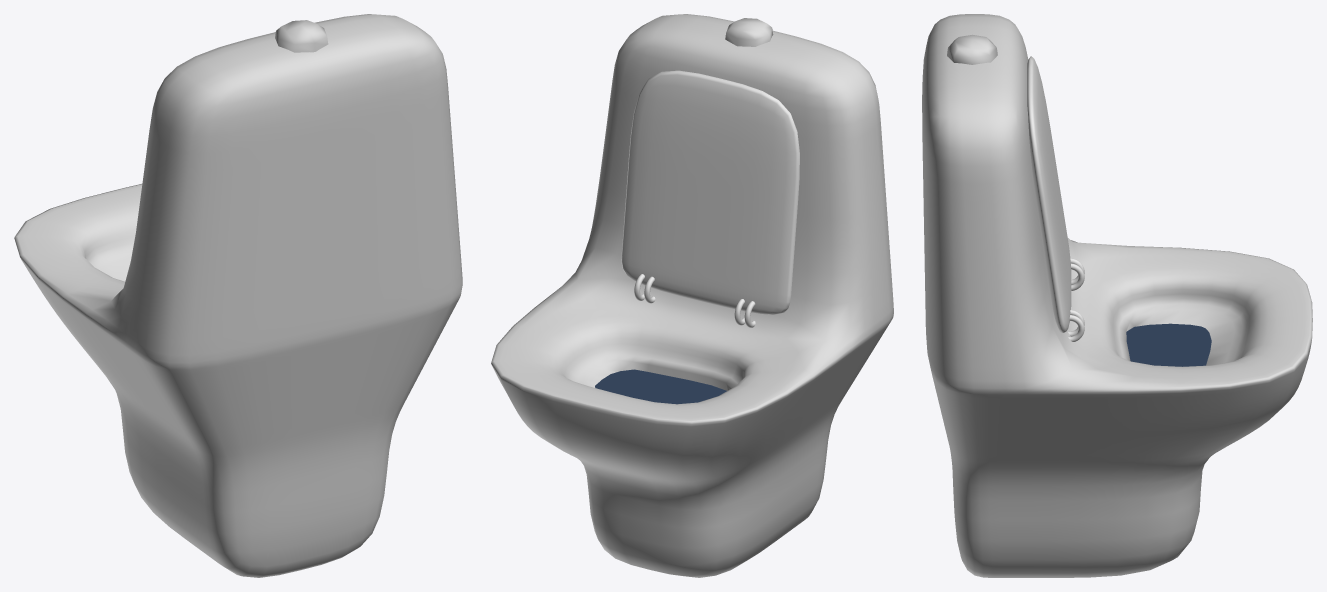
The model's file is Toilet.fbx.
3 renders of one model, left to right at view 1: azimuth 30°, elevation 25°; view 2: azimuth 150°, elevation 25°; view 3: azimuth 270°, elevation 25°, orthographic. The views are drawn at different scales.
Parts seen in each view (by area): view 1: Toilet; view 2: Toilet; view 3: Toilet.
Part boxes in pixels (x1,y1,x2,y2): Toilet: (14,14,462,577); Toilet: (491,14,893,577); Toilet: (922,14,1312,577).
Bounding box in the file's own units: 142 × 236 × 161.
